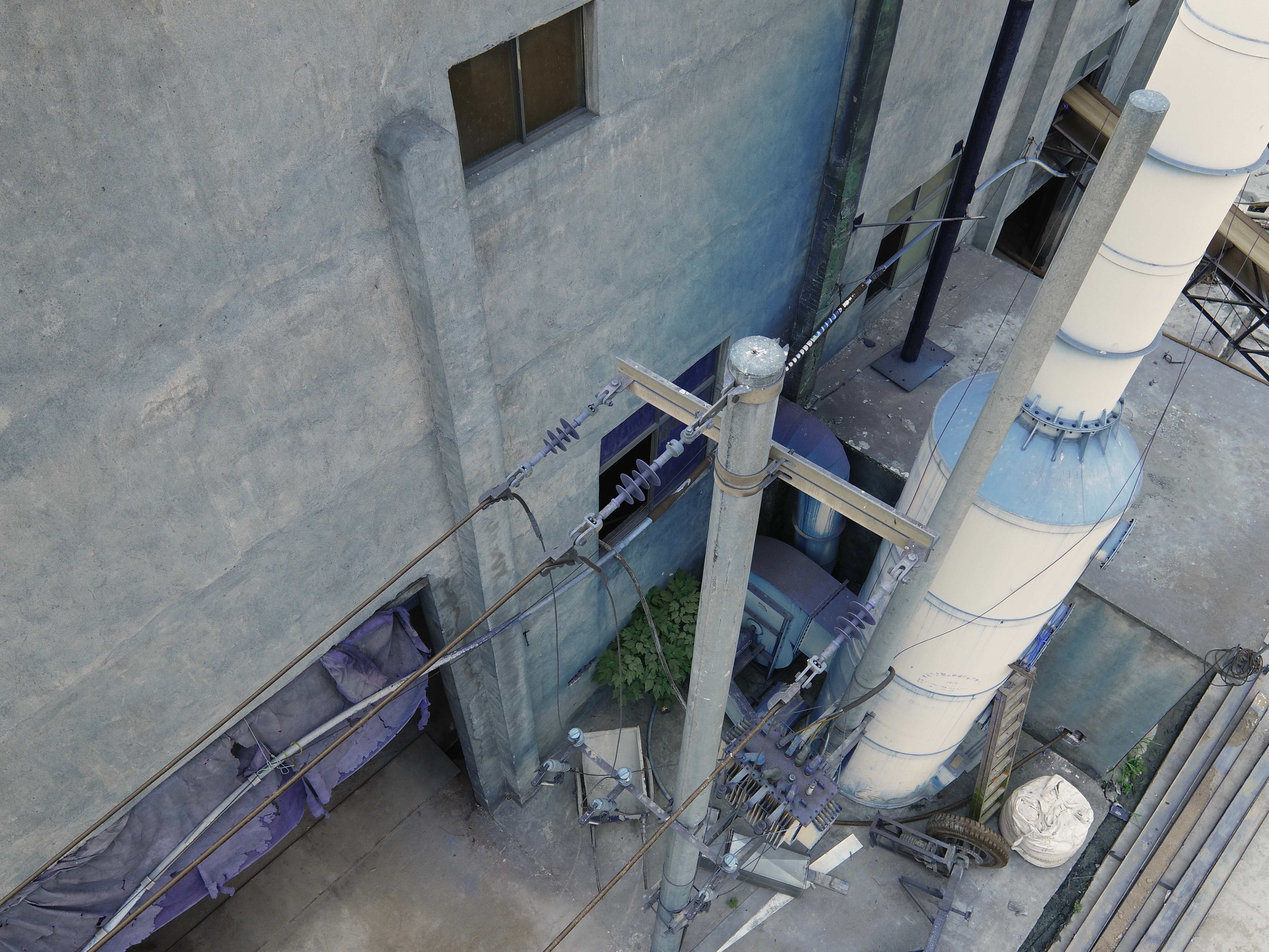severe_soiling_no_discharge_whole: (720, 850, 744, 876), (567, 724, 589, 751), (615, 765, 635, 786)
